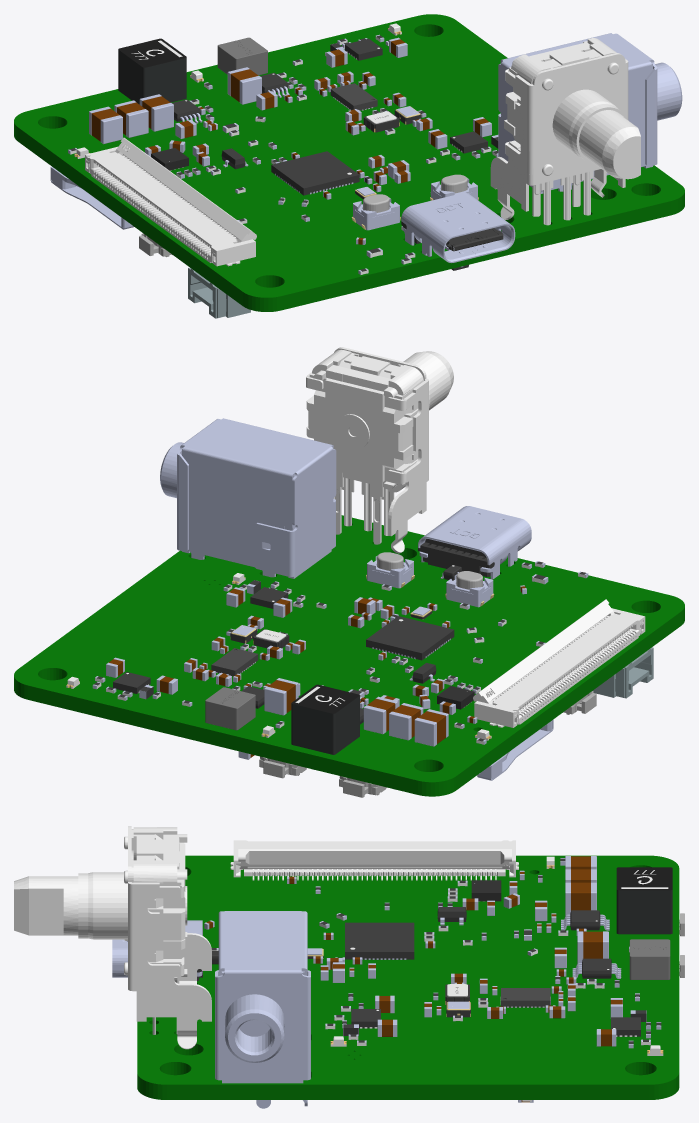
The model's file is dap-pcb.glb.
3 renders of one model, top to bottom at view 1: azimuth 30°, elevation 25°; view 2: azimuth 150°, elevation 25°; view 3: azimuth 270°, elevation 25°, orthographic. The views are drawn at different scales.
Visible parts, largest first — view 1: c003700, cffffff, c97a3da, c0d0d0d, c330c00, c080909, c98a4dc, c373737, c50676d, c030303, c868686, c131313 (+1 smaller); view 2: c003700, c97a3da, cffffff, c0d0d0d, c330c00, c080909, c98a4dc, c373737, c858585, c50676d, c030303, c868686 (+1 smaller); view 3: c003700, cffffff, c97a3da, c0d0d0d, c330c00, c080909, c373737, c030303, c131313, c080808.
Part boxes in pixels (x1,y1,x2,y2): c003700: (14, 14, 684, 311); cffffff: (70, 23, 640, 274); c97a3da: (50, 33, 682, 274); c0d0d0d: (70, 35, 503, 271); c330c00: (91, 39, 488, 244); c080909: (118, 50, 186, 104); c98a4dc: (353, 106, 477, 230); c373737: (217, 37, 267, 75); c50676d: (188, 267, 250, 318); c030303: (118, 38, 186, 67); c868686: (363, 174, 467, 212); c131313: (330, 83, 377, 110); c003700: (14, 515, 684, 796); c97a3da: (92, 418, 588, 789); cffffff: (66, 347, 645, 744); c0d0d0d: (94, 539, 586, 741); c330c00: (109, 586, 525, 757); c080909: (291, 696, 359, 754); c98a4dc: (232, 555, 493, 635); c373737: (205, 687, 255, 730); c858585: (259, 691, 596, 797); c50676d: (593, 647, 653, 698); c030303: (291, 684, 359, 713); c868686: (377, 552, 482, 589); c003700: (137, 855, 679, 1099); cffffff: (14, 826, 668, 1101); c97a3da: (112, 856, 661, 1108); c0d0d0d: (197, 858, 661, 1043); c330c00: (206, 856, 622, 1102); c080909: (616, 890, 672, 934); c373737: (629, 939, 670, 979); c030303: (616, 867, 672, 890); c131313: (501, 988, 550, 1007); c080808: (471, 880, 501, 901).
Size of the model in its own units: 58.98 by 25.17 by 67.77.
